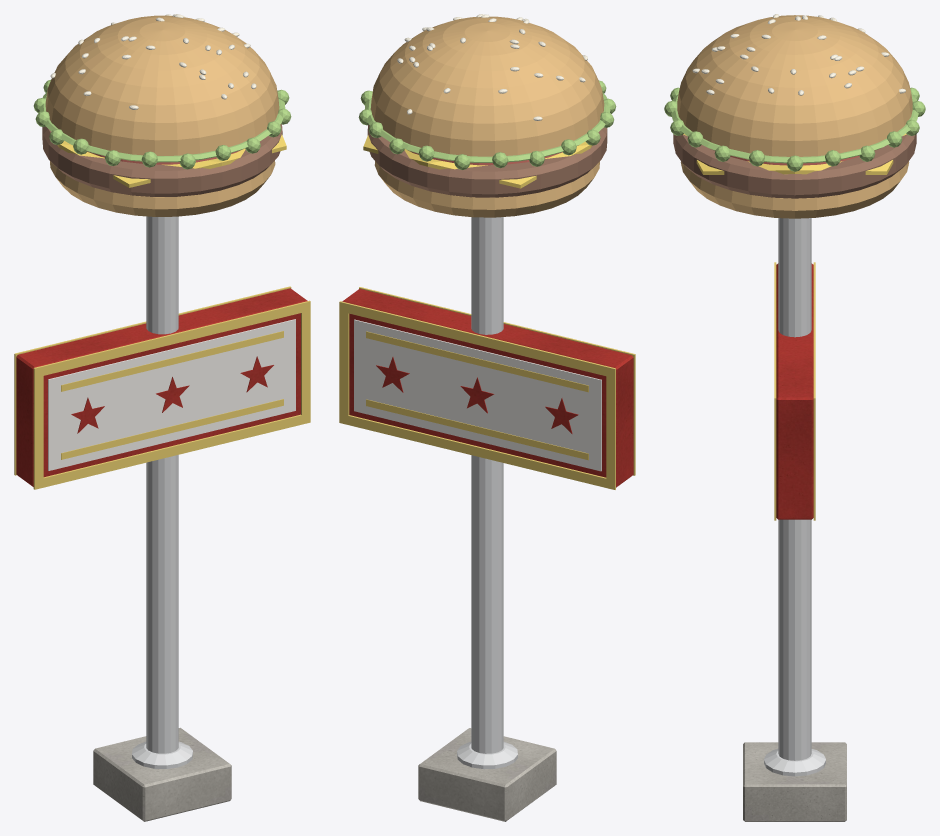
Rendered from burger_sign.glb.
3 views of the same model, side by side, from view 1: azimuth 30°, elevation 25°; view 2: azimuth 150°, elevation 25°; view 3: azimuth 270°, elevation 25° (orthographic).
Parts seen in each view (by area): view 1: burger_sign_bun, burger_sign_cream, burger_sign_steel, burger_sign_accent, burger_sign_red, burger_sign_concrete, burger_sign_patty, burger_sign_lettuce, burger_sign_cheese, burger_sign_seed; view 2: burger_sign_bun, burger_sign_cream, burger_sign_steel, burger_sign_accent, burger_sign_red, burger_sign_concrete, burger_sign_patty, burger_sign_lettuce, burger_sign_cheese, burger_sign_seed; view 3: burger_sign_bun, burger_sign_steel, burger_sign_red, burger_sign_patty, burger_sign_concrete, burger_sign_lettuce, burger_sign_accent, burger_sign_seed, burger_sign_cheese.
Boxes of the visible parts, x1,y1,x2,y2 form: burger_sign_bun: (45,15,279,216); burger_sign_cream: (48,319,295,470); burger_sign_steel: (132,216,192,768); burger_sign_accent: (14,286,310,489); burger_sign_red: (16,288,307,486); burger_sign_concrete: (93,727,231,821); burger_sign_patty: (42,124,282,196); burger_sign_lettuce: (33,80,291,169); burger_sign_cheese: (57,134,286,187); burger_sign_seed: (50,14,256,109); burger_sign_bun: (370,16,604,217); burger_sign_cream: (354,319,601,471); burger_sign_steel: (457,217,517,769); burger_sign_accent: (339,287,635,489); burger_sign_red: (342,289,633,487); burger_sign_concrete: (418,728,556,821); burger_sign_patty: (367,125,607,197); burger_sign_lettuce: (358,80,616,169); burger_sign_cheese: (363,135,592,188); burger_sign_seed: (397,14,587,120); burger_sign_bun: (677,15,912,218); burger_sign_steel: (764,218,825,776); burger_sign_red: (776,263,813,519); burger_sign_patty: (673,134,916,198); burger_sign_concrete: (743,742,846,821); burger_sign_lettuce: (664,87,925,171); burger_sign_accent: (774,262,815,520); burger_sign_seed: (692,14,905,95); burger_sign_cheese: (683,133,906,174).
Bounding box in the file's own units: 3.1 × 8.19 × 2.52.
Materials: 11 (2 with a texture image).
